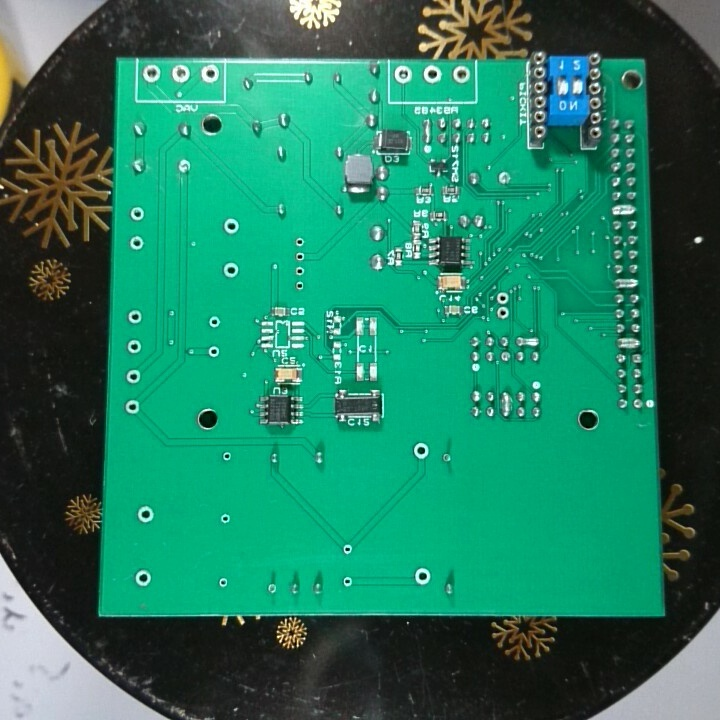F: (198, 61, 223, 88), (410, 563, 434, 589), (449, 63, 473, 87), (139, 62, 164, 85), (391, 63, 414, 86), (421, 63, 444, 86), (122, 365, 144, 389), (134, 503, 156, 527), (131, 566, 153, 590), (125, 233, 147, 256), (170, 62, 191, 86), (121, 394, 142, 418), (125, 203, 150, 223), (410, 440, 433, 461), (219, 260, 243, 280), (123, 336, 144, 357), (174, 155, 195, 175), (221, 215, 241, 236), (126, 307, 146, 328), (205, 342, 223, 363), (494, 169, 514, 186), (206, 312, 223, 332), (630, 395, 647, 414), (340, 540, 356, 560), (438, 449, 454, 469), (263, 580, 280, 598), (216, 509, 233, 526), (493, 291, 512, 305), (492, 306, 510, 320), (293, 277, 306, 296), (498, 349, 513, 365), (293, 234, 308, 249), (293, 249, 308, 264), (291, 263, 306, 278), (340, 574, 355, 589), (216, 575, 230, 591), (219, 448, 233, 463)
P: (421, 116, 435, 148), (610, 203, 639, 218), (499, 390, 513, 421), (513, 334, 542, 348), (613, 336, 641, 350), (614, 276, 639, 290)
